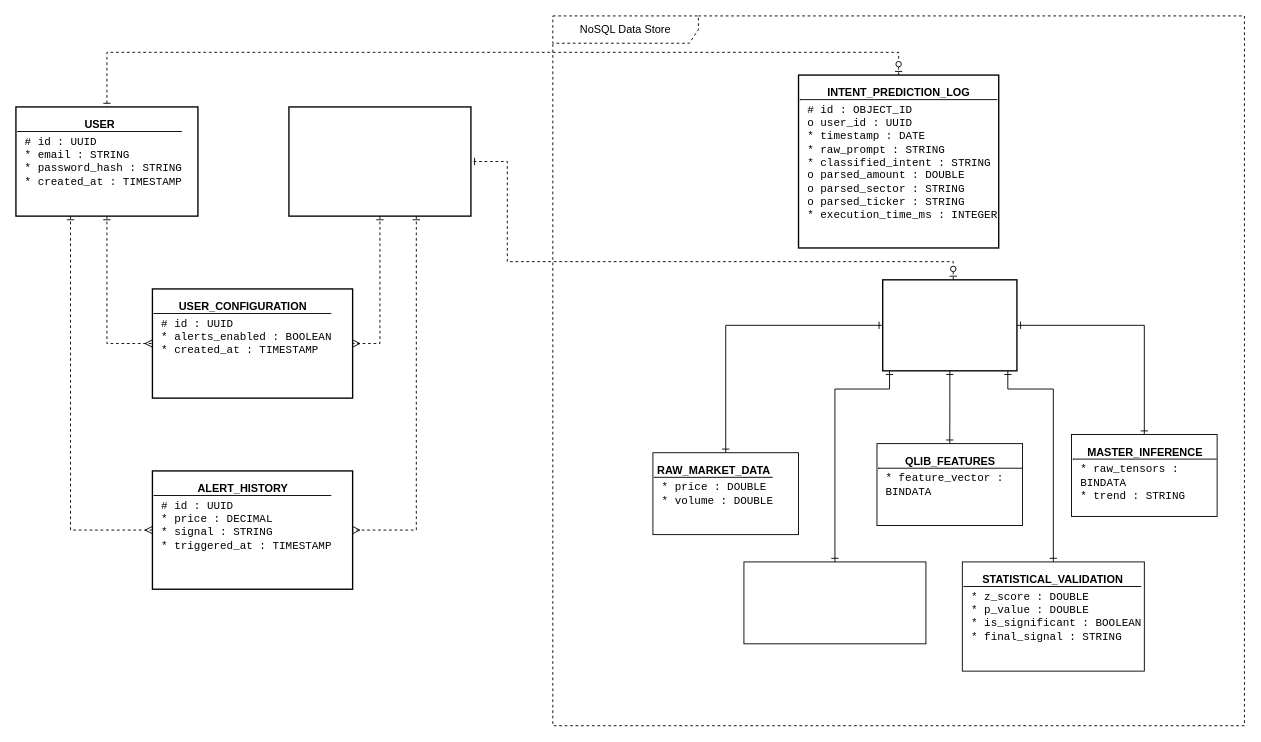
Image size: 1261x742. Some labels were removed from this diagram. The centre of each missing label's shape, as x and y in pixels:
ASSET # ticker : STRING * name : STRING * sector : STRING * is_active : BOOLEAN: the point at 379,161
GALFORMER_INFERENCE * raw_tensors : BINDATA o projected_horizon : DOUBLE: the point at 834,602
MARKET_TICK # id : OBJECT_ID * ticker : STRING * timestamp : DATE: the point at 949,325
